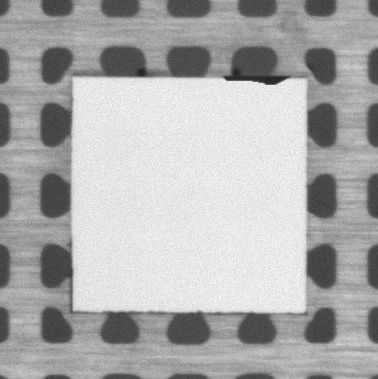DIE_BROKEN: (222, 72, 292, 86)
